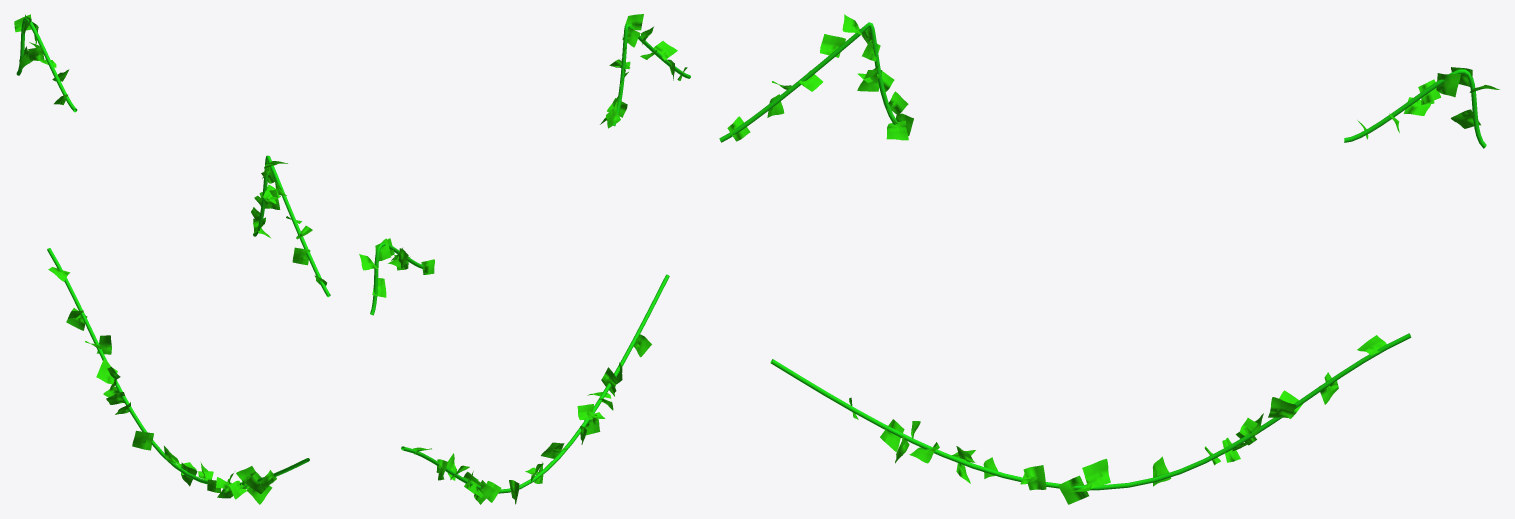
Rendered from vine8.fbx.
The picture shows the model from 3 angles, left to right: view 1: azimuth 30°, elevation 25°; view 2: azimuth 150°, elevation 25°; view 3: azimuth 270°, elevation 25°; orthographic projection. The views are drawn at different scales.
Visible parts, largest first — view 1: BézierCurve; view 2: BézierCurve; view 3: BézierCurve.
Boxes of the visible parts, x1,y1,x2,y2 form: BézierCurve: (14,14,330,504); BézierCurve: (359,14,690,504); BézierCurve: (719,14,1499,504).
Size of the model in its own units: 24.6 by 274 by 399.
